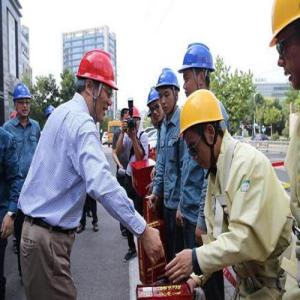blue: (183, 42, 214, 96), (157, 70, 179, 114), (12, 82, 34, 119), (146, 85, 164, 122)
red: (76, 51, 117, 123), (128, 108, 142, 131)
yellow: (180, 90, 227, 169), (270, 3, 300, 88)
